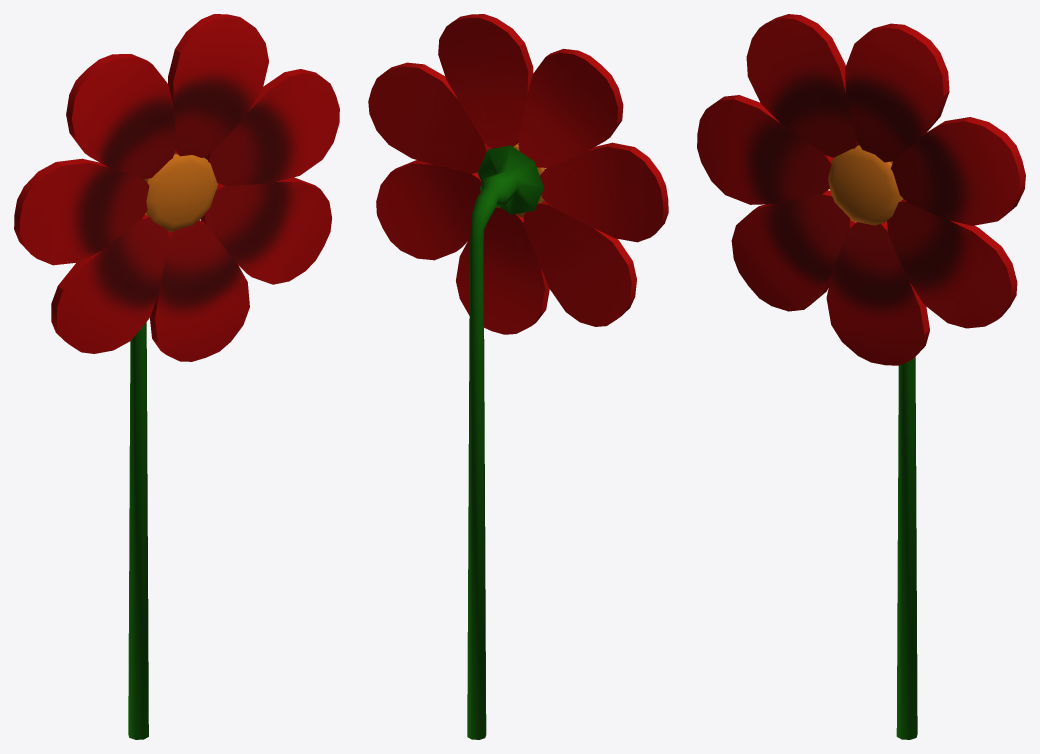
The model's file is Flower.fbx.
3 views of the same model, side by side, from view 1: azimuth 30°, elevation 25°; view 2: azimuth 150°, elevation 25°; view 3: azimuth 330°, elevation 25° (orthographic). The views are drawn at different scales.
Visible parts, largest first — view 1: Box011, Box012, Box006, Box010, Box007, Box009, Box008, Cylinder002, Cylinder001; view 2: Cylinder002, Box011, Box012, Box006, Box010, Box007, Box008, Box009; view 3: Box006, Box007, Box008, Box012, Box009, Box011, Box010, Cylinder002, Cylinder001.
Part boxes in pixels (<box>): Box011: <box>14,158,149,265</box>; Box012: <box>66,54,176,179</box>; Box006: <box>168,14,268,157</box>; Box010: <box>51,214,168,353</box>; Box007: <box>204,69,339,186</box>; Box009: <box>150,220,249,361</box>; Box008: <box>200,177,332,284</box>; Cylinder002: <box>128,322,148,739</box>; Cylinder001: <box>145,152,218,231</box>; Cylinder002: <box>467,145,543,739</box>; Box011: <box>540,142,668,242</box>; Box012: <box>517,48,623,167</box>; Box006: <box>438,14,533,148</box>; Box010: <box>523,201,636,326</box>; Box007: <box>368,62,490,173</box>; Box008: <box>376,160,481,260</box>; Box009: <box>456,207,549,334</box>; Box006: <box>845,23,949,162</box>; Box007: <box>890,117,1025,225</box>; Box008: <box>887,199,1017,328</box>; Box012: <box>746,14,858,157</box>; Box009: <box>826,221,929,365</box>; Box011: <box>697,95,832,204</box>; Box010: <box>731,190,855,311</box>; Cylinder002: <box>896,357,917,739</box>; Cylinder001: <box>828,145,903,225</box>.
Size of the model in its own units: 9.9 by 21.91 by 2.87.
